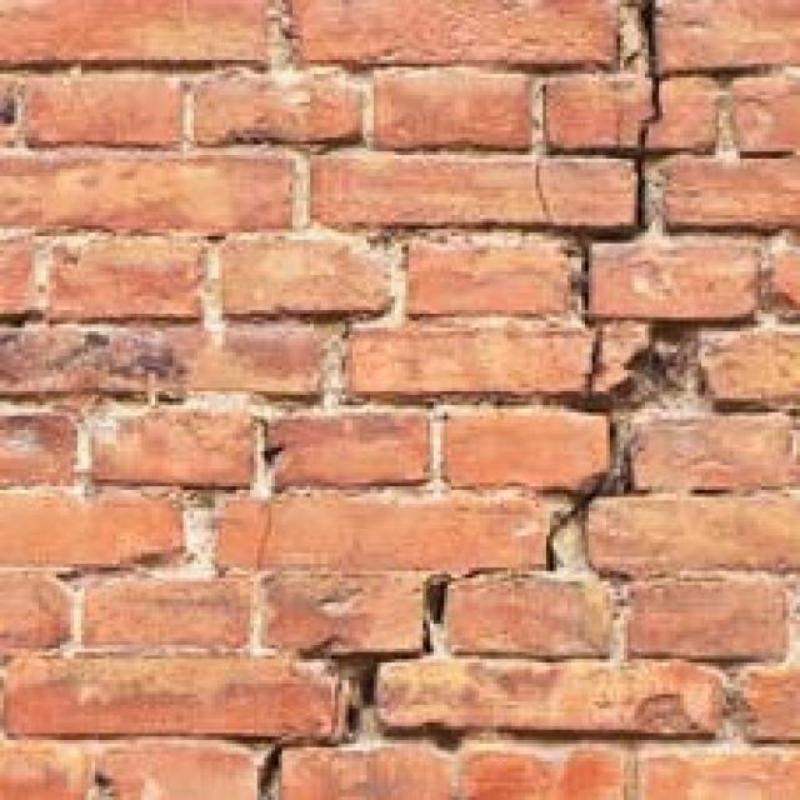pothole: (258, 575, 450, 799), (552, 123, 647, 574), (631, 0, 659, 120), (534, 155, 554, 230), (255, 497, 274, 570)
